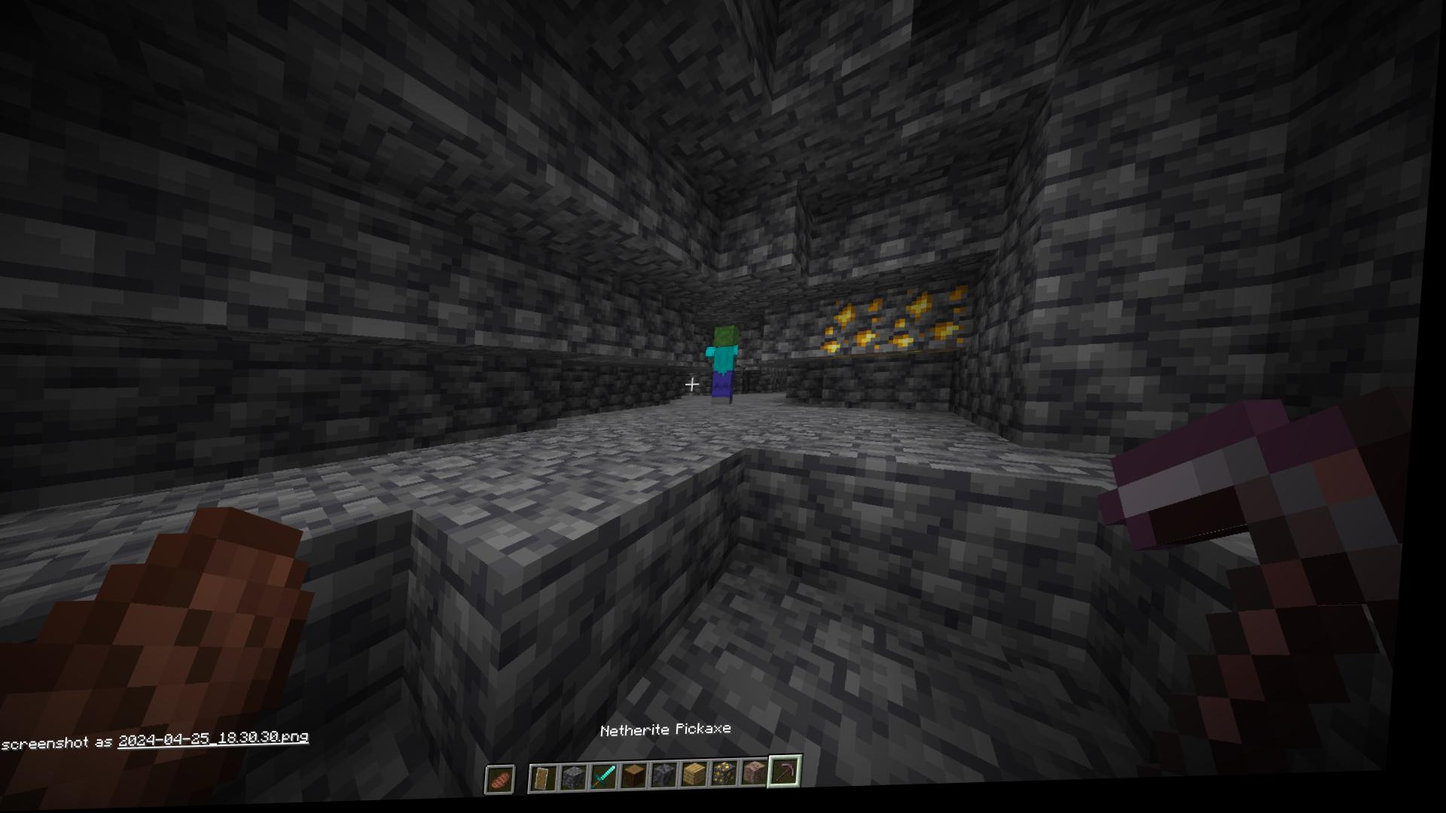gold ore: (890, 287, 977, 356), (827, 297, 892, 358)
